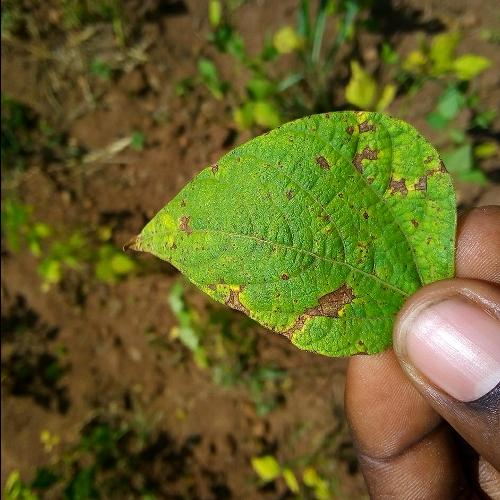hawar: (100, 151, 225, 269), (336, 90, 440, 215), (278, 276, 376, 352), (219, 273, 254, 320), (302, 152, 332, 193)
mozaik: (234, 124, 318, 258)
